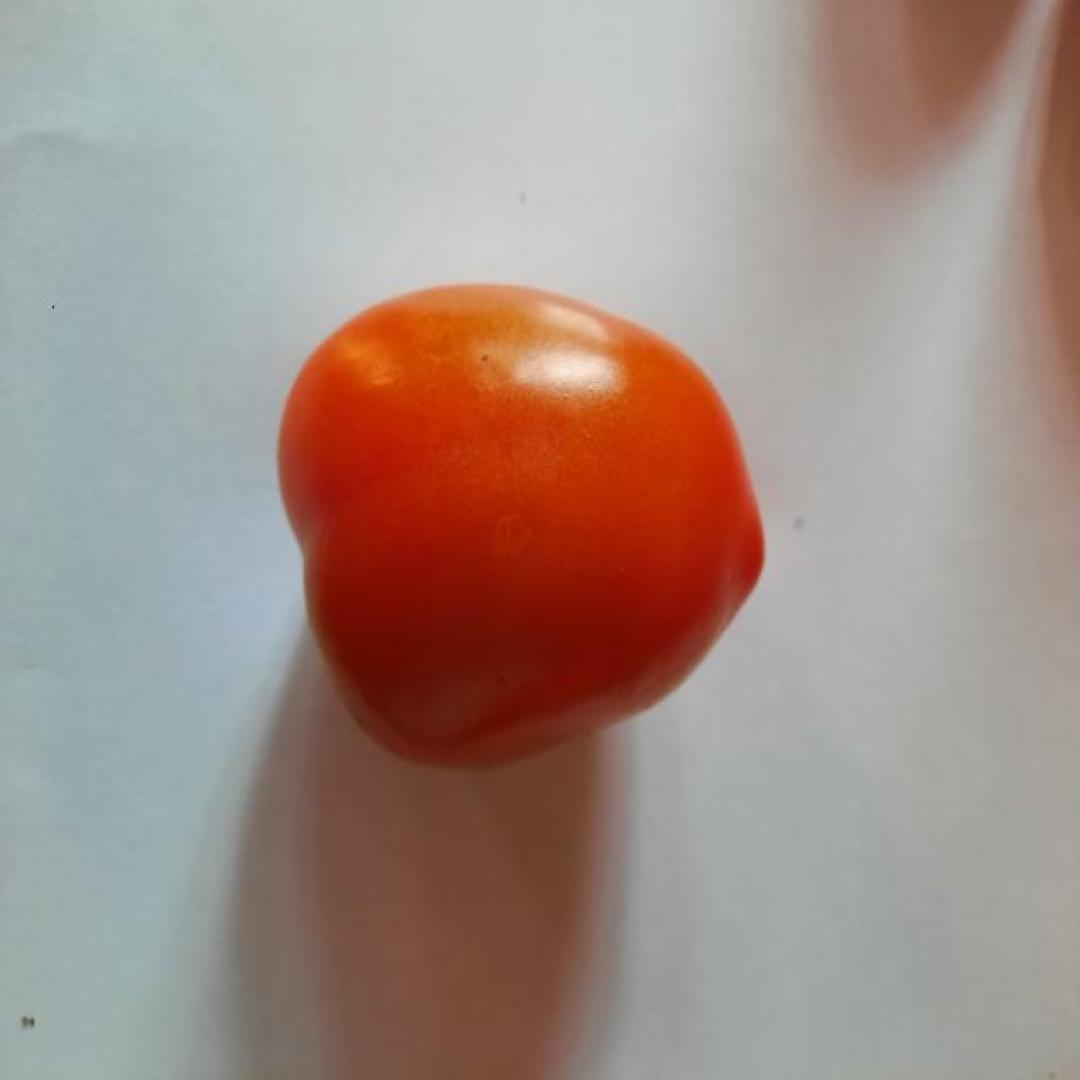matang: (273, 282, 768, 769)
